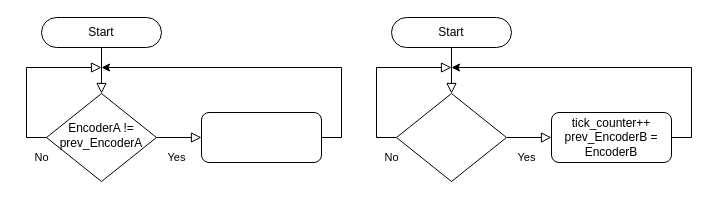
Some shapes in this 717 by 199 pixel diagram are drawn without their labels. The shapes that lost their labels are listed below. From the top down, each one's centre as x and y in pixels, then its label:
At point 261,137: "tick_counter++ prev_EncoderA = EncoderA".
At point 451,137: "EncoderB != prev_EncoderB".
